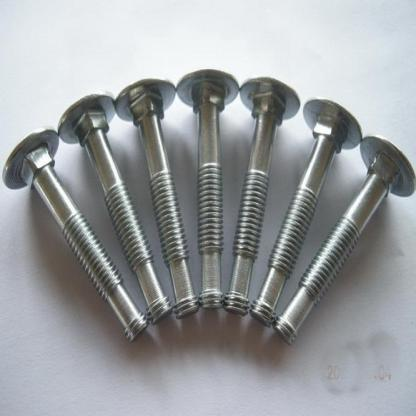FOD: (0, 126, 146, 340), (272, 132, 416, 346), (55, 86, 172, 325), (246, 96, 364, 330), (112, 75, 199, 319), (223, 74, 302, 318), (176, 68, 240, 310)
